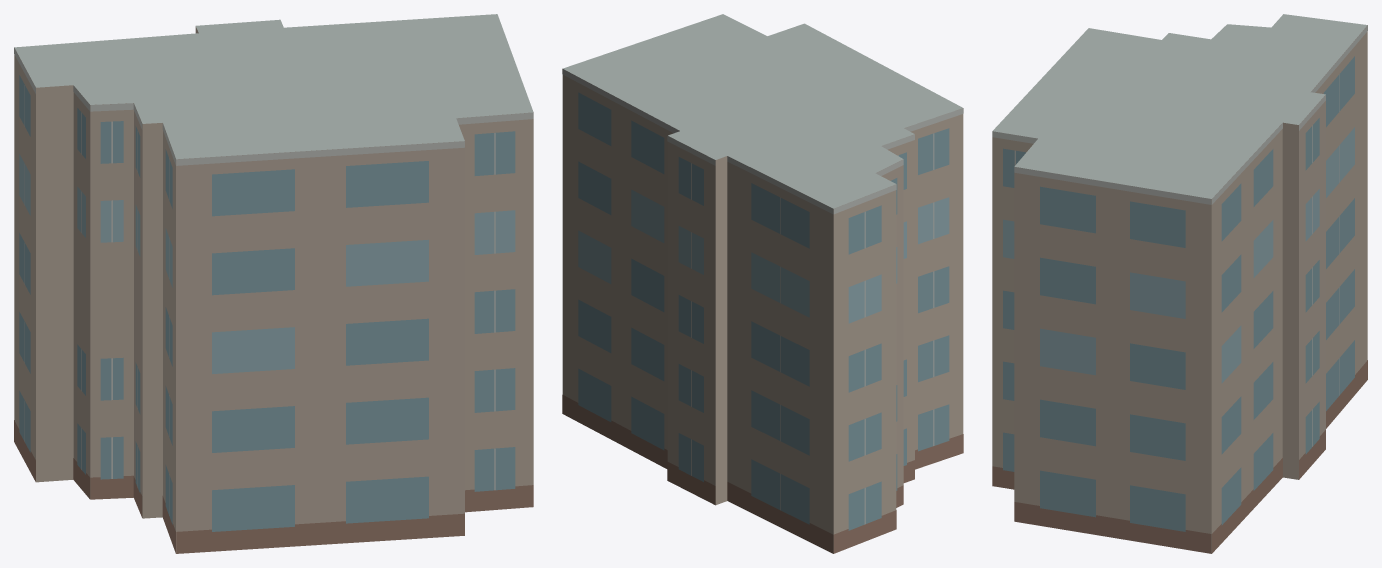
The model's file is survey-upis-32652155.glb.
The picture shows the model from 3 angles, left to right: view 1: azimuth 30°, elevation 25°; view 2: azimuth 150°, elevation 25°; view 3: azimuth 270°, elevation 25°; orthographic projection. The views are drawn at different scales.
Parts seen in each view (by area): view 1: survey-upis-32652155.tmp; view 2: survey-upis-32652155.tmp; view 3: survey-upis-32652155.tmp.
Part boxes in pixels (box(x1,y1,x2,y2)): survey-upis-32652155.tmp: box(14, 14, 533, 553); survey-upis-32652155.tmp: box(562, 14, 963, 553); survey-upis-32652155.tmp: box(992, 14, 1367, 553).
Size of the model in its own units: 16.22 by 14.5 by 13.91.
